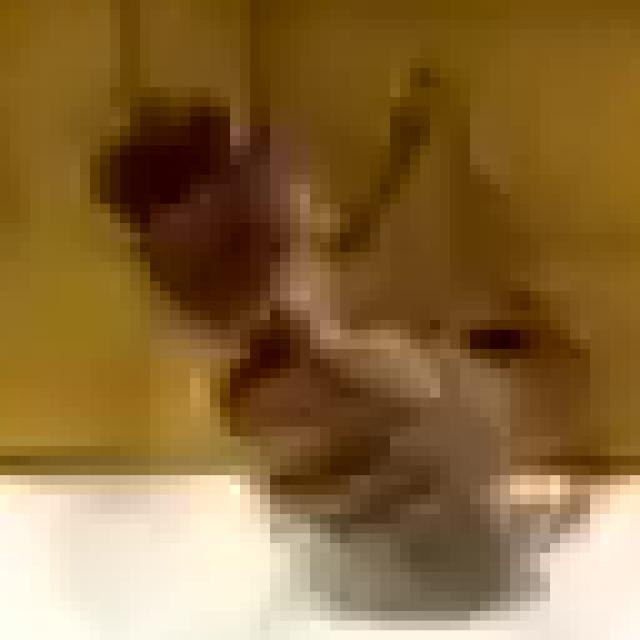honeybee: (73, 76, 577, 610)
